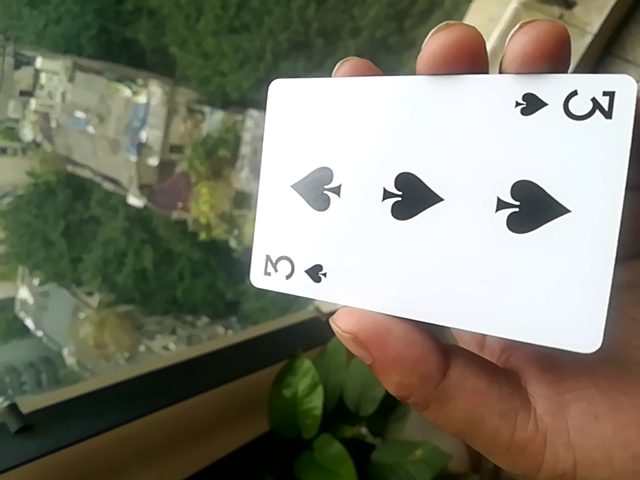ht 3: (243, 66, 638, 364)
